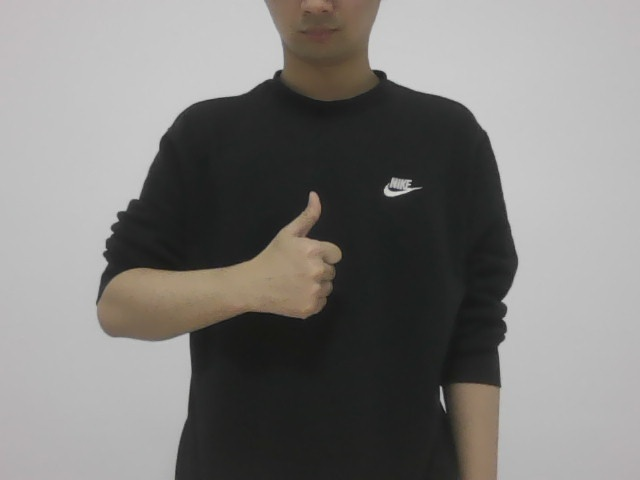good: (239, 177, 343, 330)
